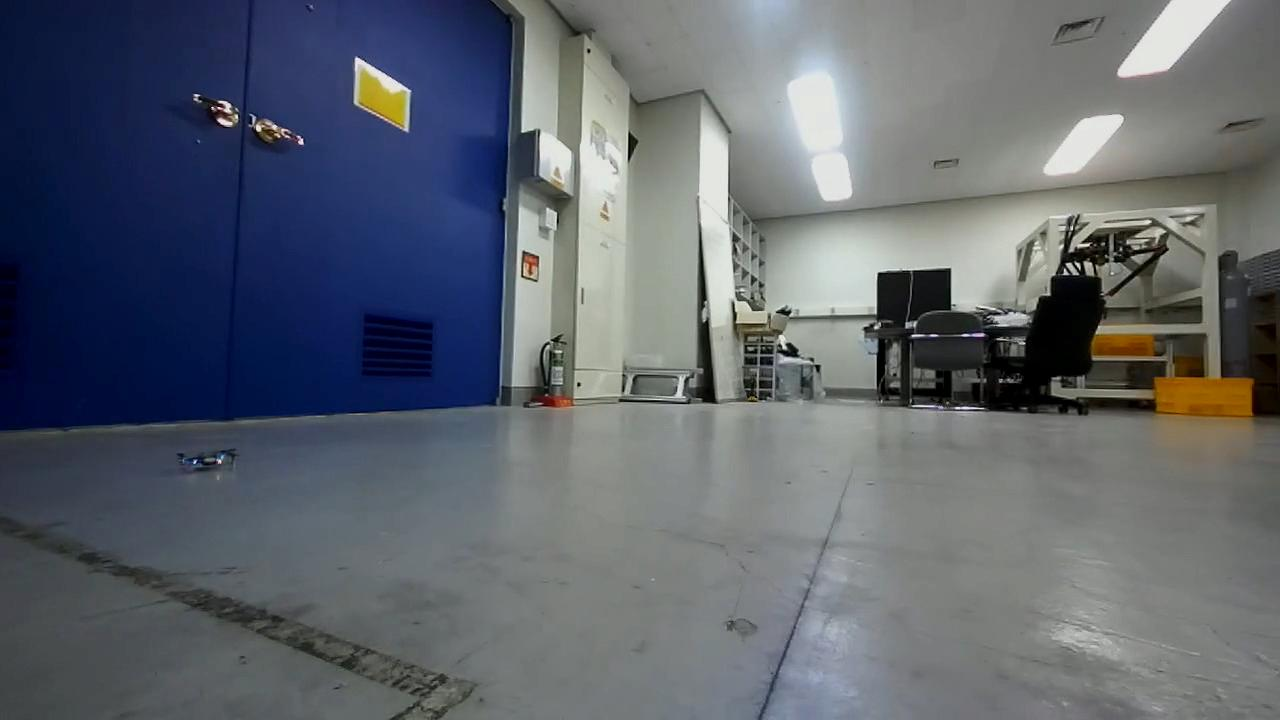crazyflie: (174, 444, 239, 477)
